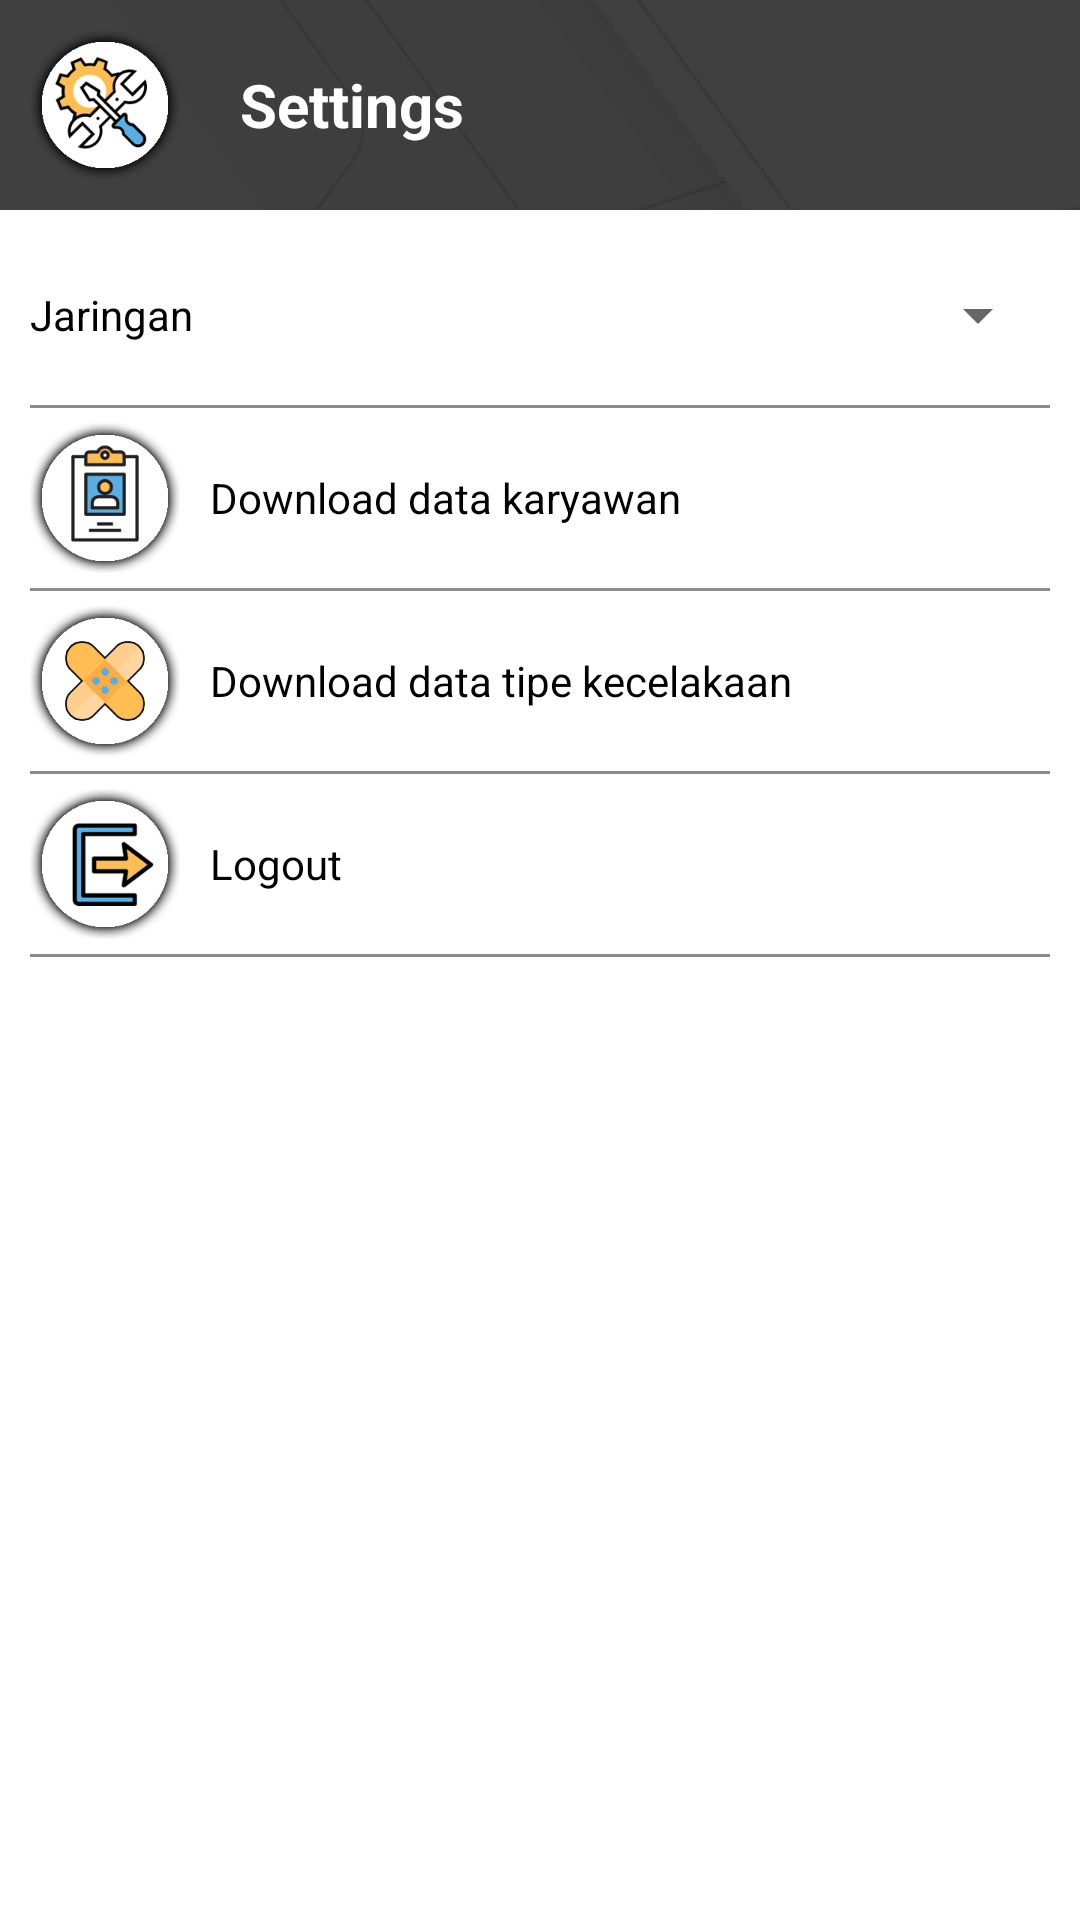

Where icons sit on this 1080 × 1920 app screen, as {"left": x1, "top": y1, "right": x2, "bottom": y2}:
member: {"left": 33, "top": 426, "right": 177, "bottom": 570}
